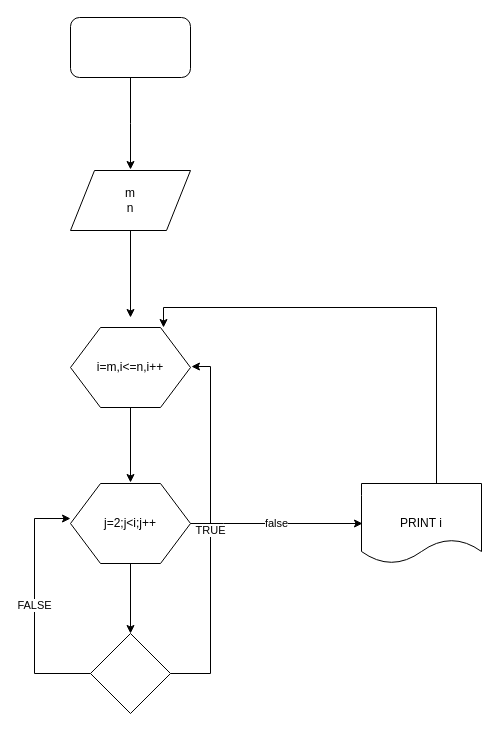
Some shapes in this 499 by 731 pixel diagram are drawn without their labels. Here are the shapes that lost their labels. From the top down, the box of each, then its label:
(70, 16, 190, 78): Basla
(90, 632, 170, 714): i%j==0
